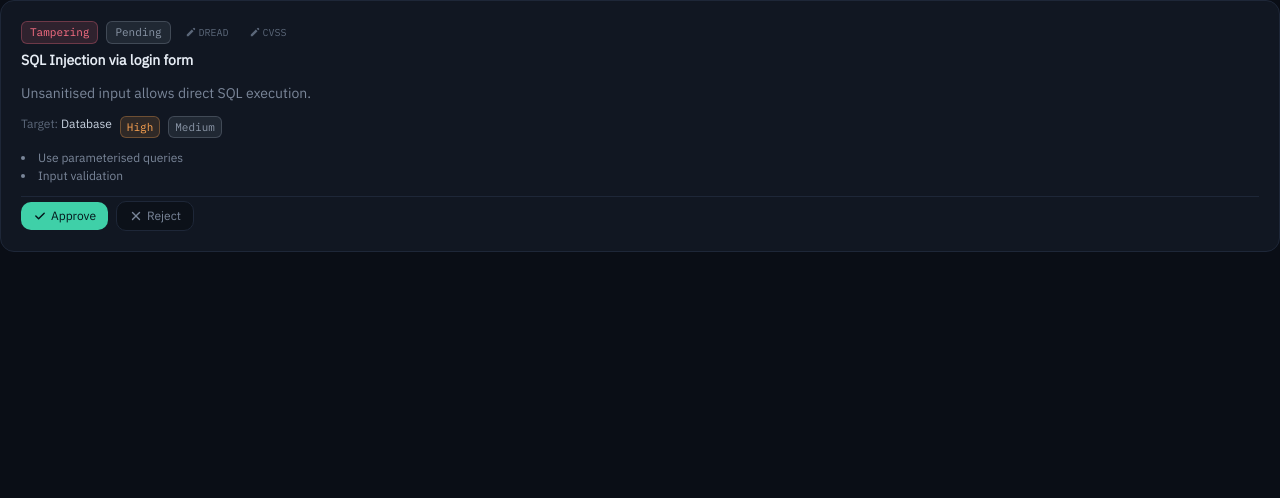
Test: ThreatCard › opens CVSS edit form when CVSS button is clicked
Click the button "CVSS" at (268, 32), box [243,23,293,42]
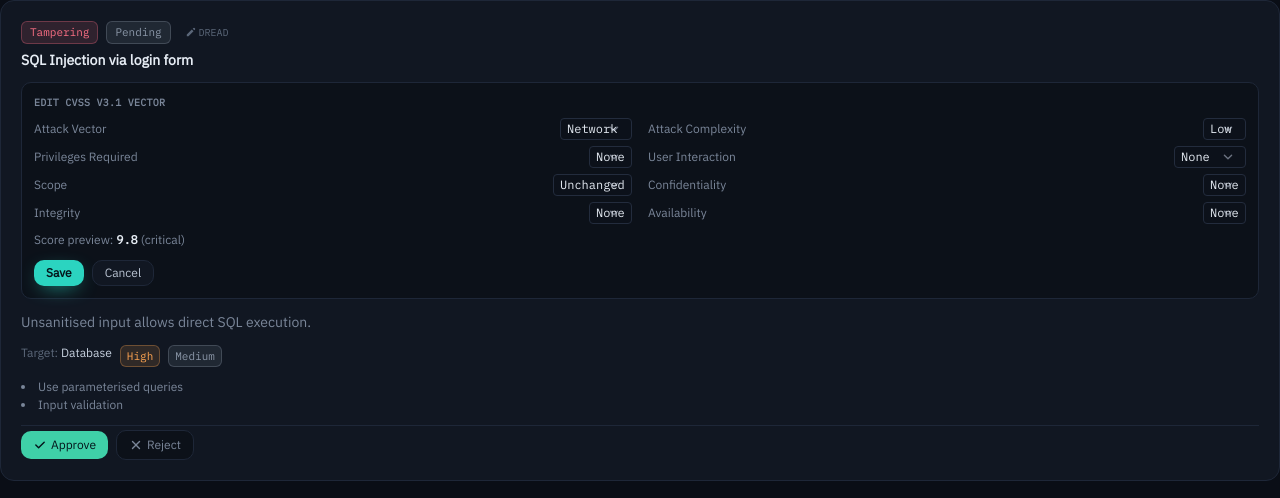
expect the text "Edit CVSS v3.1 vector" is shown: met, box [34,96,165,108]
